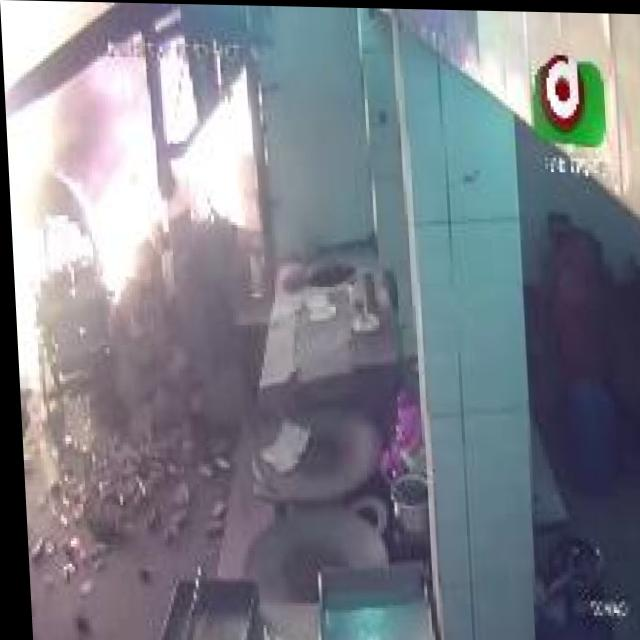fire: (77, 67, 259, 333), (0, 3, 99, 392)
